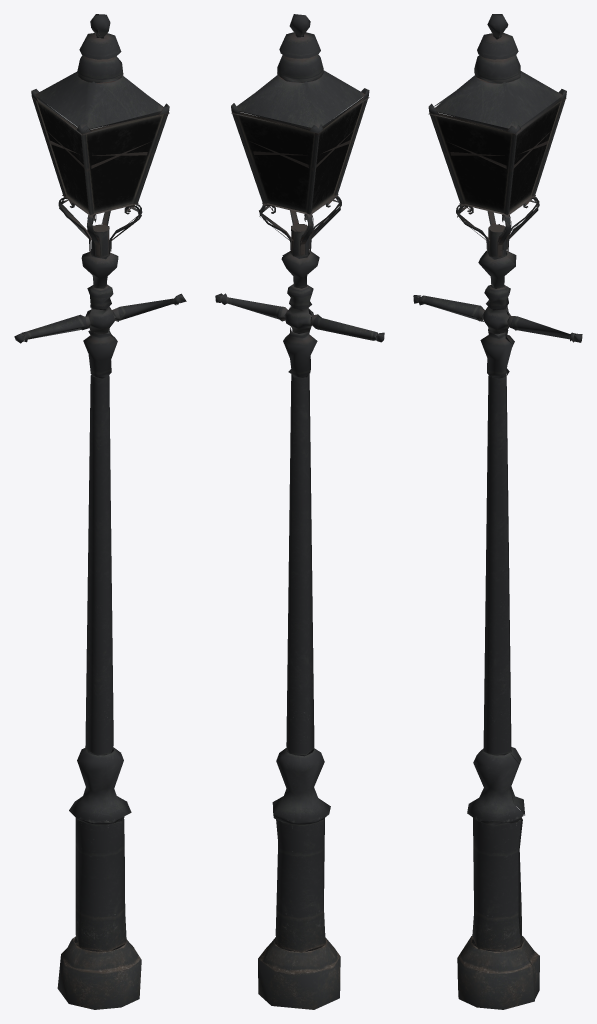
File: lamp_a.glb
3 views of the same model, side by side, from view 1: azimuth 30°, elevation 25°; view 2: azimuth 150°, elevation 25°; view 3: azimuth 330°, elevation 25° (orthographic).
Visible parts, largest first — view 1: street_lamp_01; view 2: street_lamp_01; view 3: street_lamp_01.
Part boxes in pixels (box(x1,y1,x2,y2)): street_lamp_01: box(14, 14, 186, 1009); street_lamp_01: box(215, 14, 384, 1009); street_lamp_01: box(413, 14, 582, 1009).
Bounding box in the file's own units: 0.7035 × 3.87 × 0.3655.
3 materials, 3 textured.
